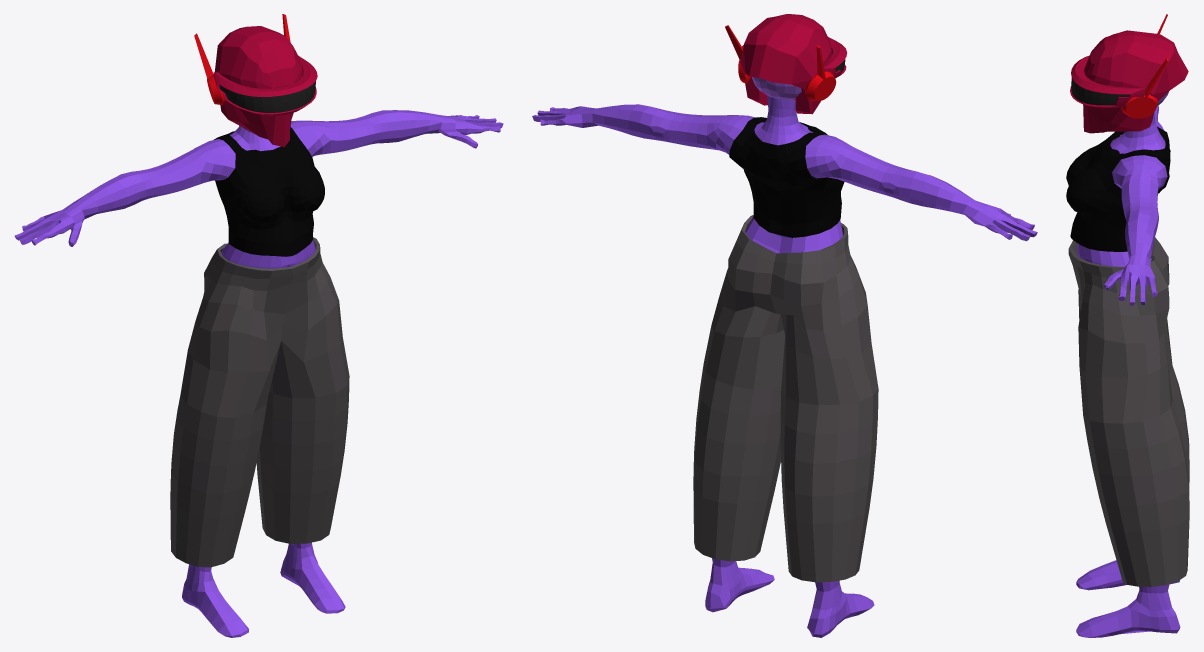
The picture shows the model from 3 angles, left to right: view 1: azimuth 30°, elevation 25°; view 2: azimuth 150°, elevation 25°; view 3: azimuth 270°, elevation 25°; orthographic projection. The views are drawn at different scales.
Visible parts, largest first — view 1: Pants, RetopBody, Tank, HelmetRetop; view 2: Pants, RetopBody, Tank, HelmetRetop; view 3: Pants, RetopBody, HelmetRetop, Tank.
Boxes of the visible parts, <box> form: Pants: <box>170,237,349,567</box>; RetopBody: <box>14,110,503,637</box>; Tank: <box>214,127,324,256</box>; HelmetRetop: <box>194,14,317,147</box>; Pants: <box>693,215,878,582</box>; RetopBody: <box>532,95,1037,637</box>; Tank: <box>729,117,844,237</box>; HelmetRetop: <box>725,14,847,114</box>; Pants: <box>1068,237,1189,586</box>; RetopBody: <box>1076,105,1180,637</box>; HelmetRetop: <box>1070,14,1188,133</box>; Tank: <box>1066,126,1170,251</box>.
Bounding box in the file's own units: 159 × 180 × 35.09.
